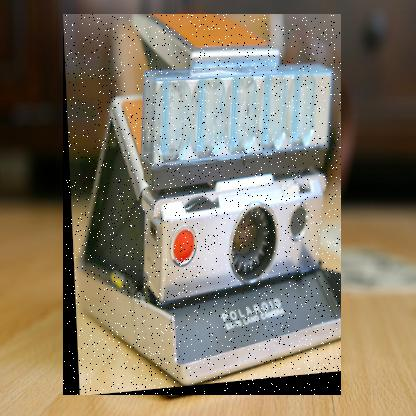Camera: (64, 15, 343, 397)
